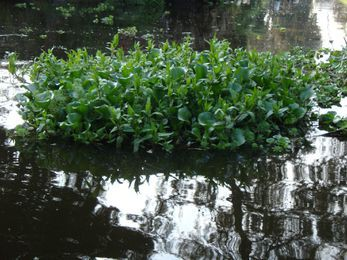water_hyacinth: (5, 41, 311, 155)
